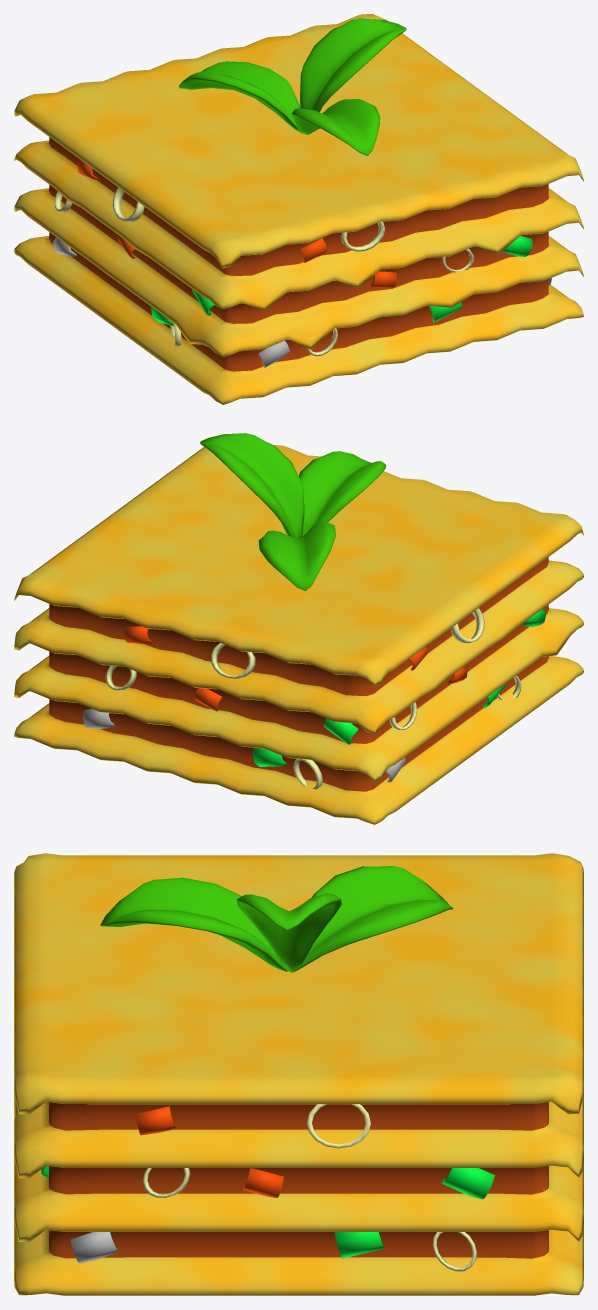
Rendered from lasaña.glb.
3 views of the same model, one above another, from view 1: azimuth 30°, elevation 25°; view 2: azimuth 150°, elevation 25°; view 3: azimuth 270°, elevation 25° (orthographic). The views are drawn at different scales.
Parts seen in each view (by area): view 1: lasaña; view 2: lasaña; view 3: lasaña.
Part boxes in pixels (<box>): lasaña: <box>14,14,583,404</box>; lasaña: <box>14,433,583,824</box>; lasaña: <box>14,853,583,1295</box>.
Bounding box in the file's own units: 1.96 × 1.25 × 1.97.
Materials: 1 (1 with a texture image).
